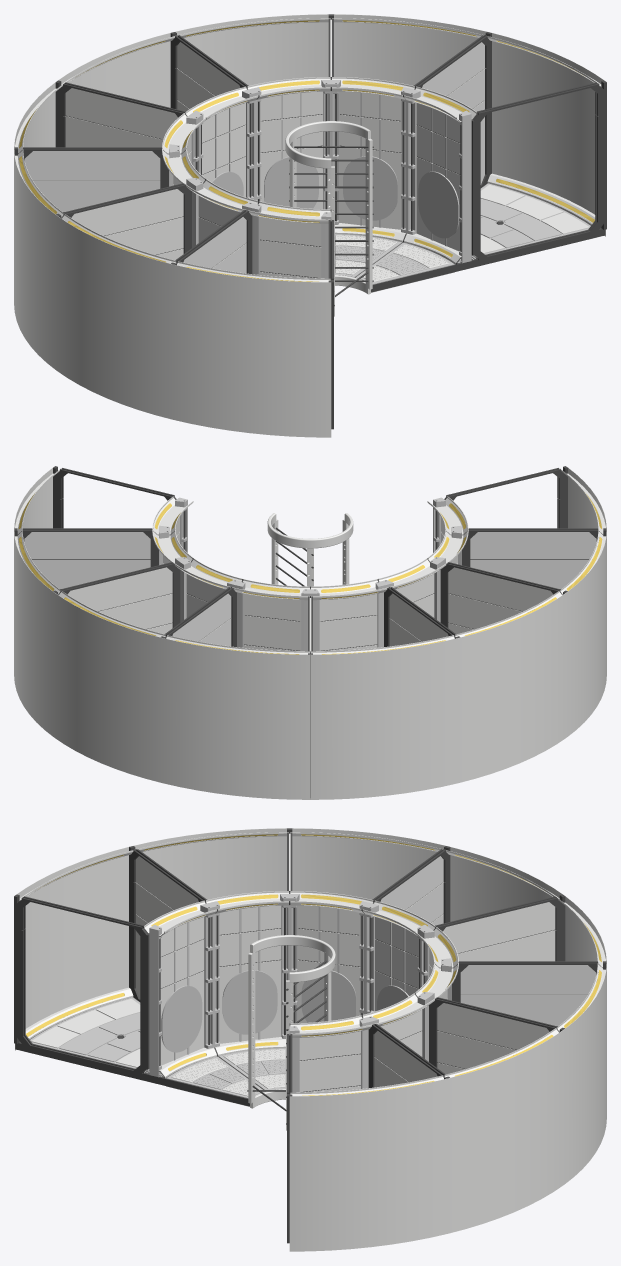
The model's file is StarshipTest_Edited.fbx.
The picture shows the model from 3 angles, top to bottom: view 1: azimuth 30°, elevation 25°; view 2: azimuth 150°, elevation 25°; view 3: azimuth 270°, elevation 25°; orthographic projection. The views are drawn at different scales.
Parts seen in each view (by area): view 1: Body1.103, Body1.099, Body1.012, Body1.083, Body1.079, Body1.095, Body1.087, Body4.002, Body15.028, Body15.027, Body15.029, Body14.021 (+66 smaller); view 2: Body1.087, Body1.091, Body1.083, Body1.095, Body1.079, Body1.099, Body15.024, Body15.030, Body15.029, Body15.025, Body14.017, Body14.023 (+34 smaller); view 3: Body1.012, Body1.079, Body1.103, Body1.095, Body1.099, Body1.083, Body1.091, Body4.017, Body15.026, Body15.027, Body15.025, Body14.019 (+67 smaller).
Boxes of the visible parts, bbox=[...] form: Body1.103: bbox=[172, 264, 331, 437]; Body1.099: bbox=[56, 215, 172, 419]; Body1.012: bbox=[490, 32, 605, 236]; Body1.083: bbox=[173, 14, 328, 85]; Body1.079: bbox=[334, 14, 487, 85]; Body1.095: bbox=[14, 148, 56, 370]; Body1.087: bbox=[57, 32, 170, 107]; Body4.002: bbox=[471, 80, 606, 260]; Body15.028: bbox=[25, 151, 160, 180]; Body15.027: bbox=[65, 88, 178, 139]; Body15.029: bbox=[71, 189, 183, 235]; Body14.021: bbox=[33, 180, 160, 211]; Body1.087: bbox=[162, 638, 310, 799]; Body1.091: bbox=[310, 638, 458, 799]; Body1.083: bbox=[53, 592, 162, 782]; Body1.095: bbox=[458, 592, 567, 782]; Body1.079: bbox=[14, 530, 53, 736]; Body1.099: bbox=[567, 530, 606, 736]; Body15.024: bbox=[24, 532, 150, 559]; Body15.030: bbox=[470, 532, 596, 559]; Body15.029: bbox=[448, 567, 553, 612]; Body15.025: bbox=[67, 567, 172, 612]; Body14.017: bbox=[32, 560, 150, 588]; Body14.023: bbox=[470, 560, 588, 588]; Body1.012: bbox=[289, 1078, 448, 1251]; Body1.079: bbox=[448, 1029, 564, 1233]; Body1.103: bbox=[15, 846, 130, 1050]; Body1.095: bbox=[292, 828, 447, 899]; Body1.099: bbox=[133, 828, 286, 899]; Body1.083: bbox=[564, 962, 606, 1184]; Body1.091: bbox=[450, 846, 563, 921]; Body4.017: bbox=[14, 894, 149, 1074]; Body15.026: bbox=[460, 965, 595, 994]; Body15.027: bbox=[442, 902, 555, 953]; Body15.025: bbox=[437, 1003, 549, 1049]; Body14.019: bbox=[460, 994, 587, 1025].
Bounding box in the file's own units: 900 × 256 × 841.
